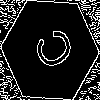C: (25, 25, 76, 78)
